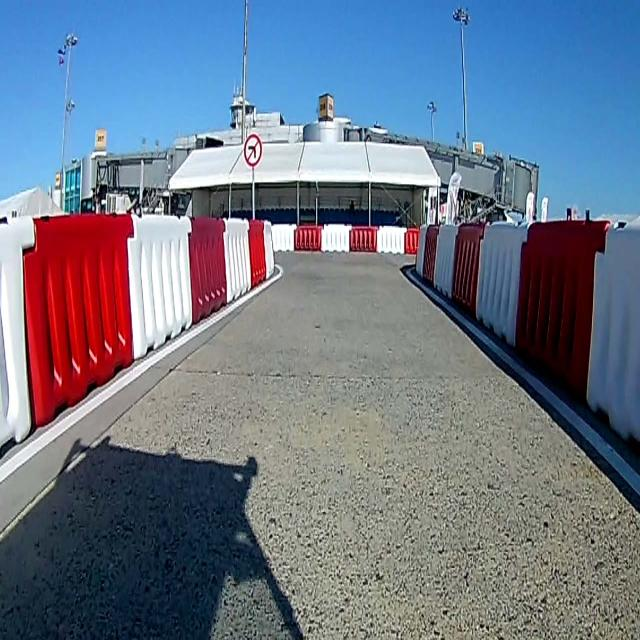soladonulmez: (244, 134, 262, 166)
